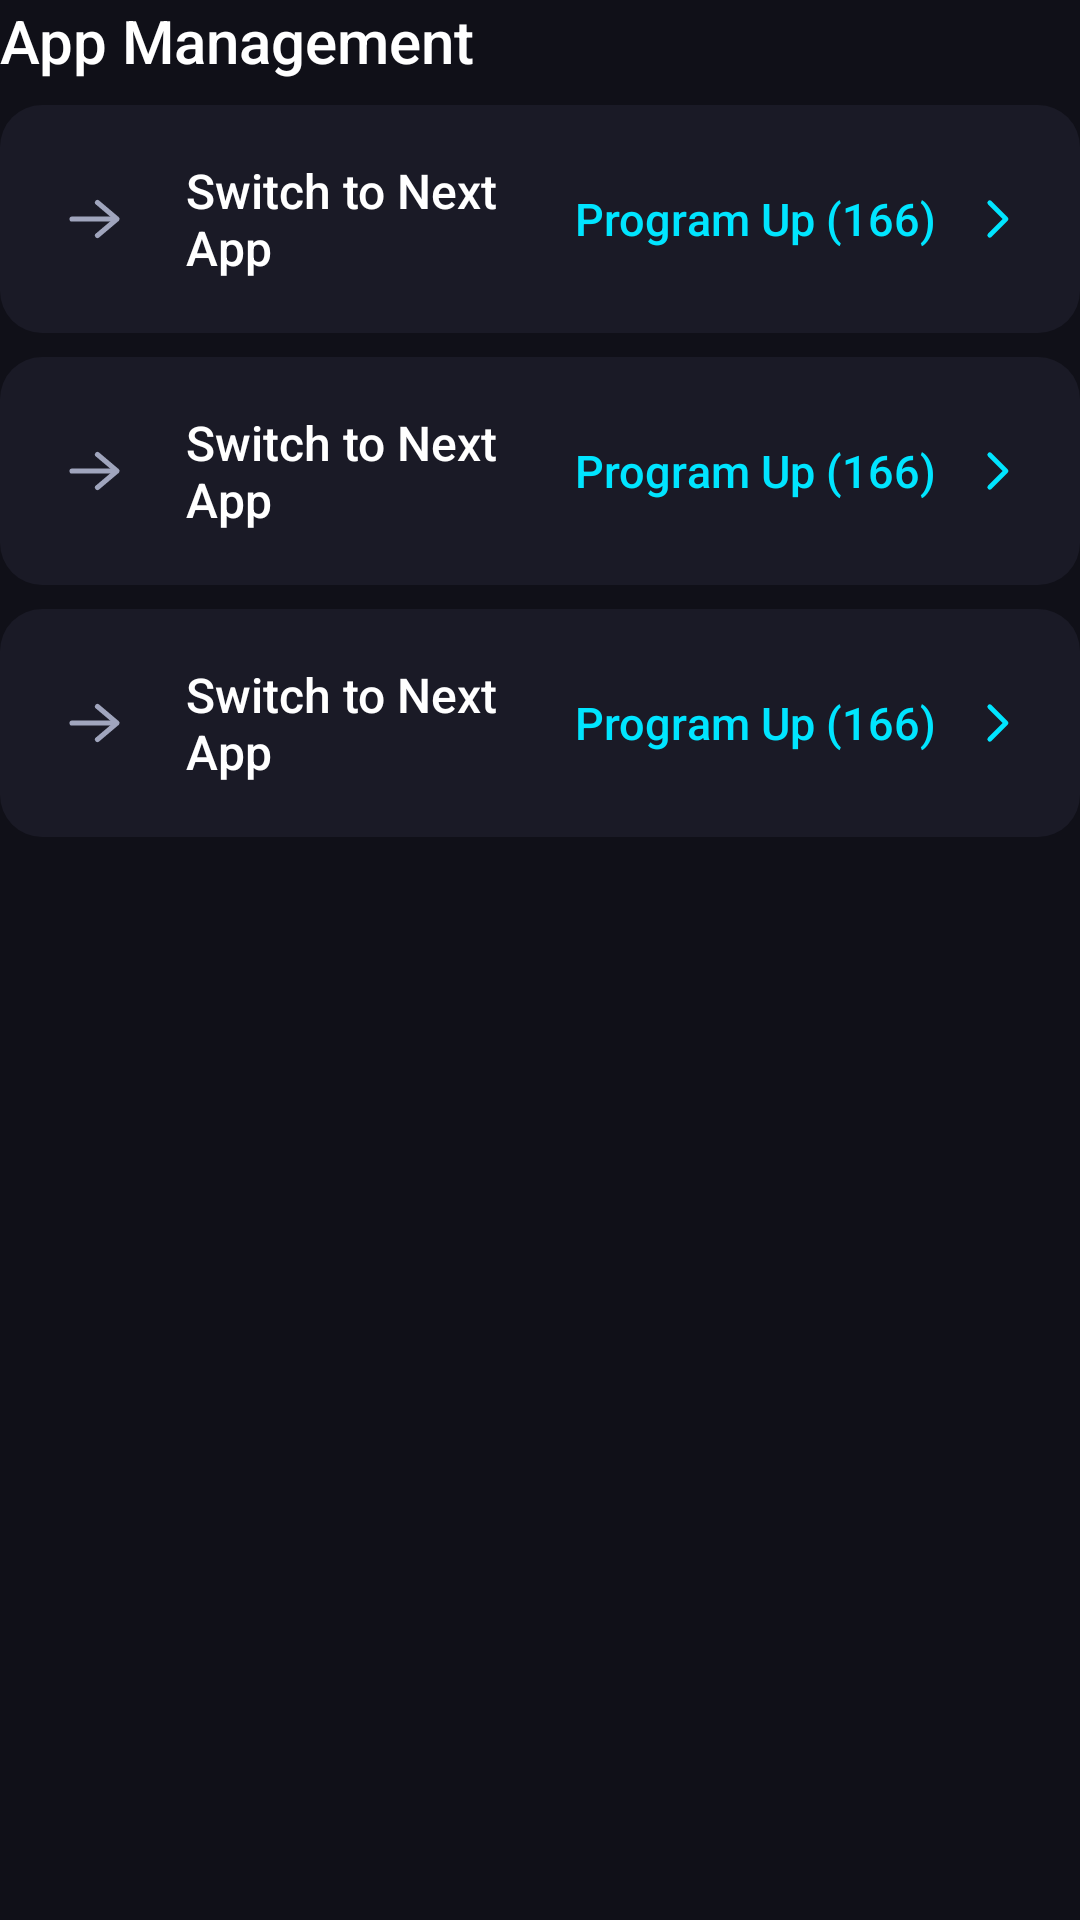

Point at icon controls on the screen. Image size 1080px x 1920px, points as (x,y).
chevron right: (998,219), (998,471), (998,723)
